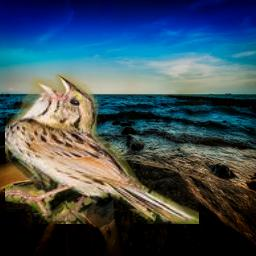Sparrow: (5, 74, 199, 224)
